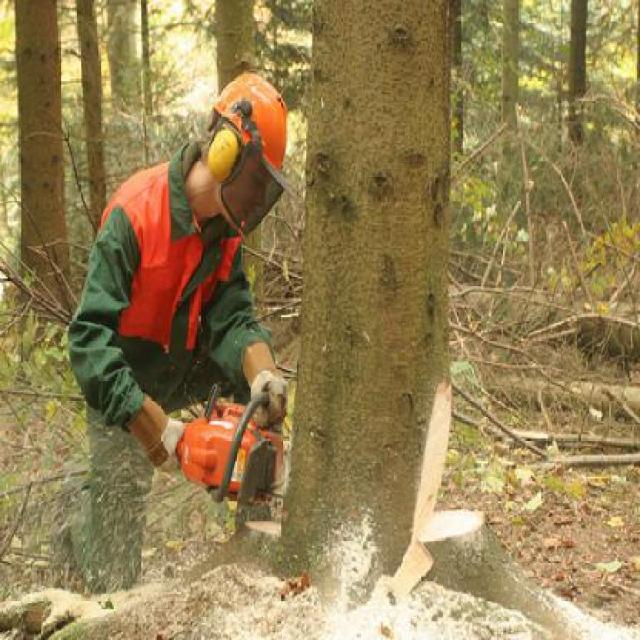Chainsaw: (172, 375, 291, 508)
